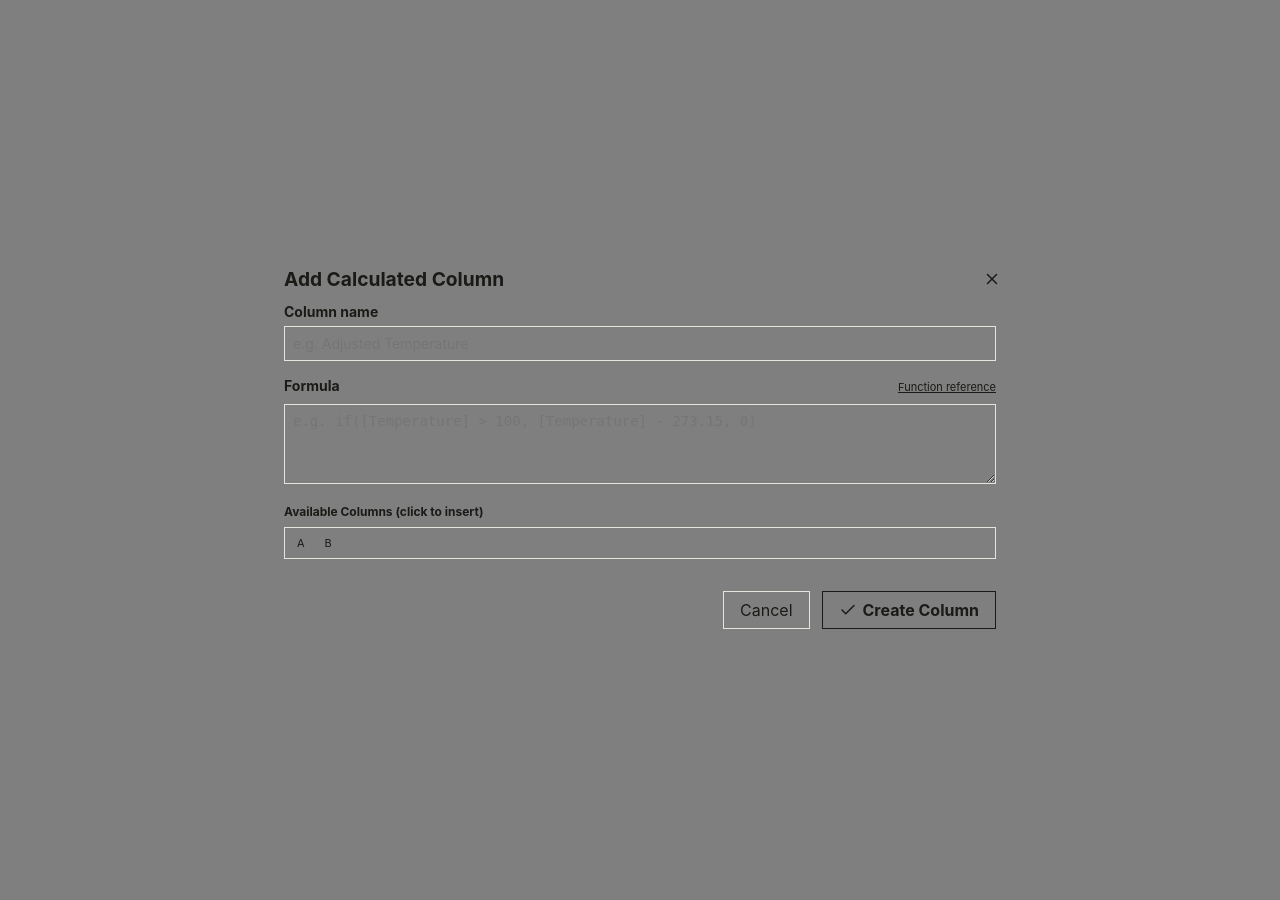
CalculatedColumnModal › shows generic error if addCalculatedColumn throws
# Fill inputs
Type "New Calc" into the field labelled "Column name". click: (640, 344)
box: [284, 326, 996, 361]
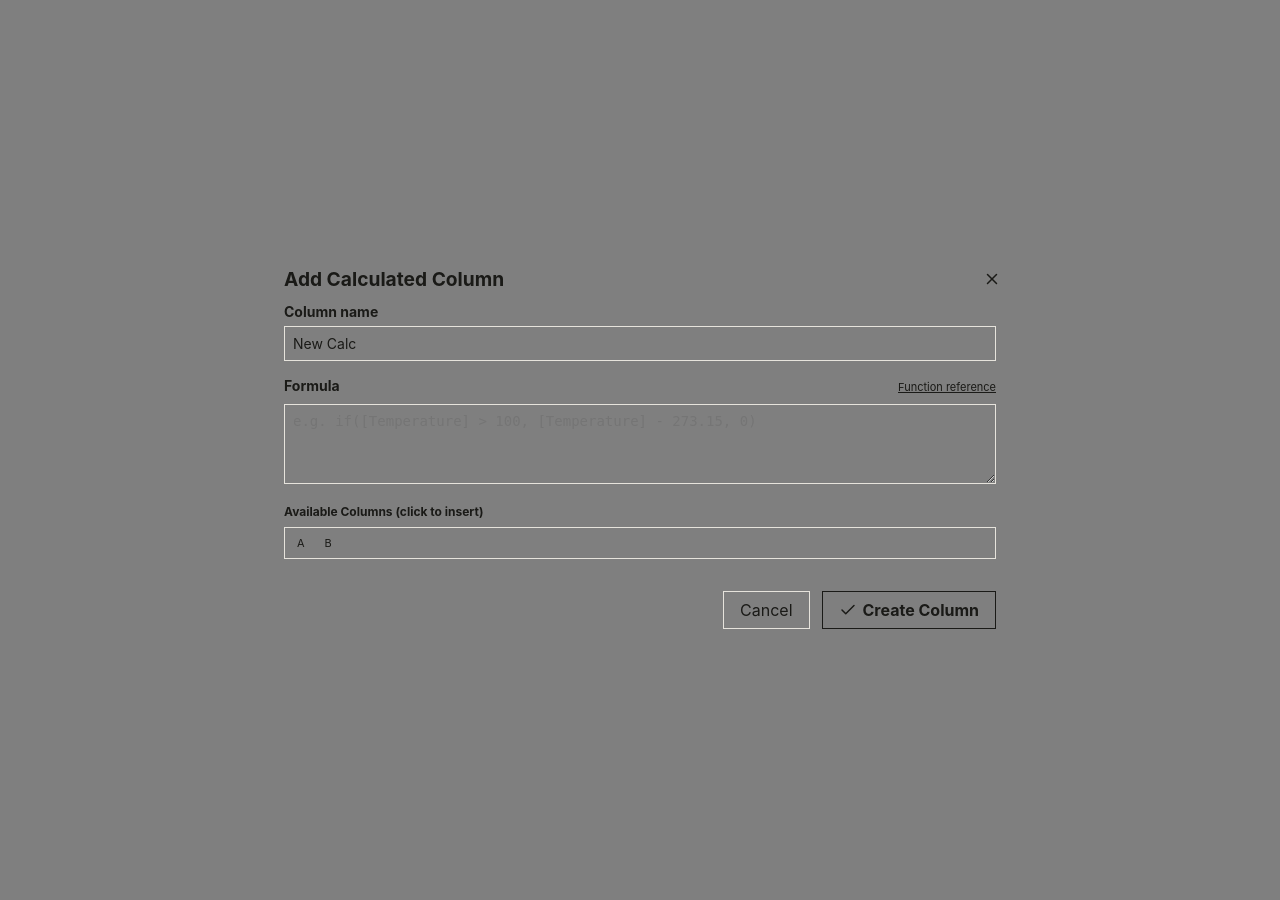
Type "[A] + [B]" into the text box labelled "Formula". click: (640, 444)
box: [284, 404, 996, 484]
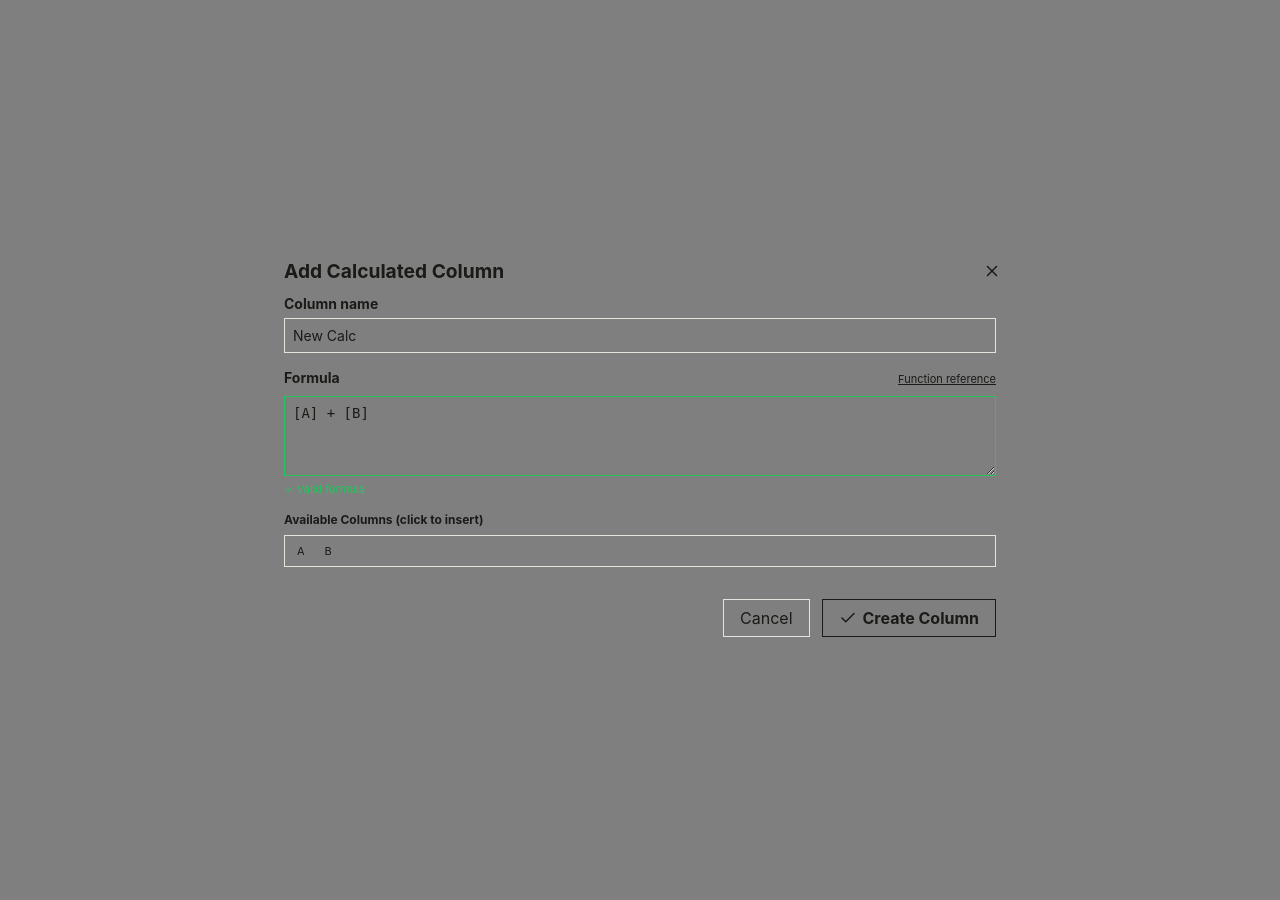
# Submit form
Click the button "Create Column". click: (909, 618)
box: [822, 599, 996, 637]
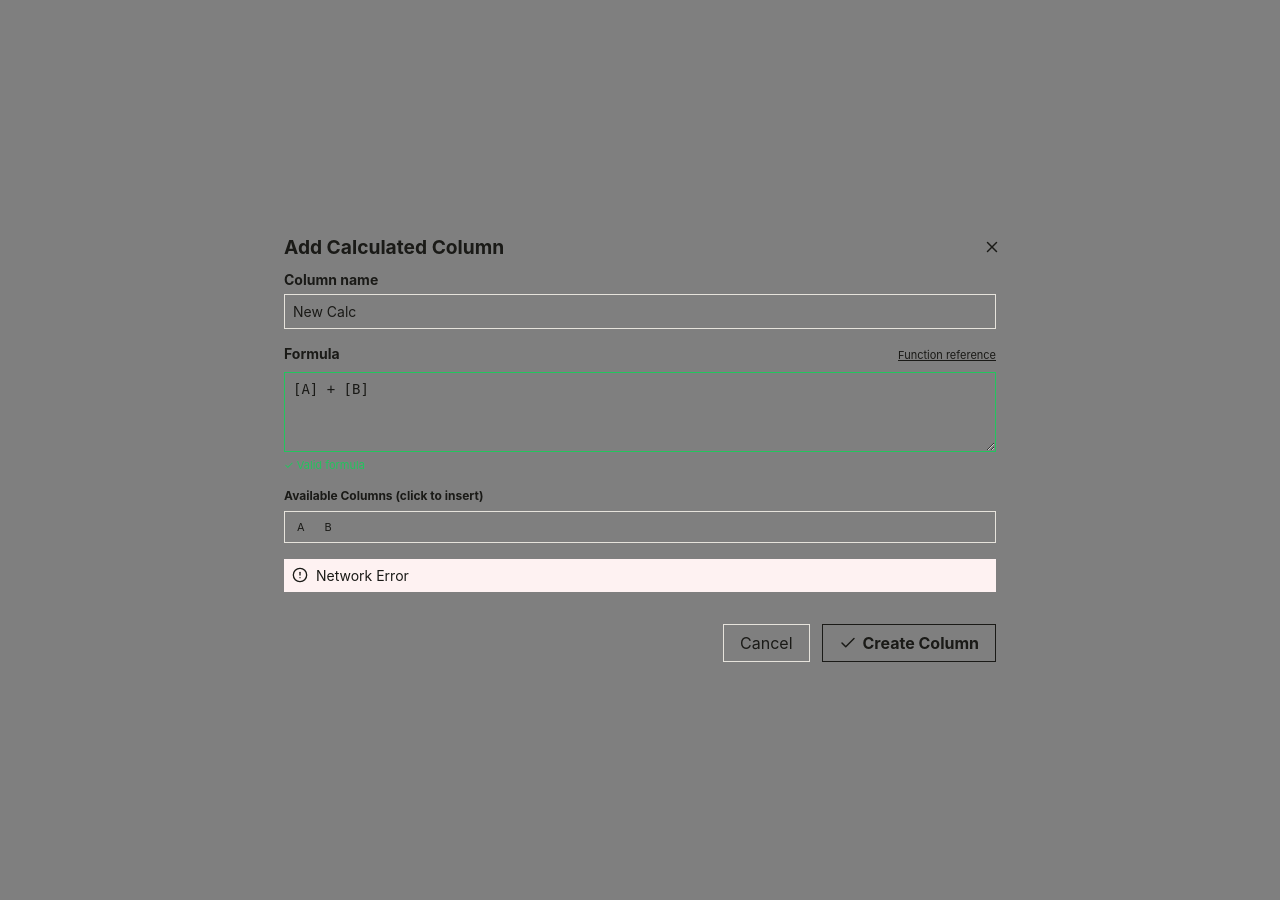
Expected: the text "Network Error" is shown, [316, 566, 409, 584]
